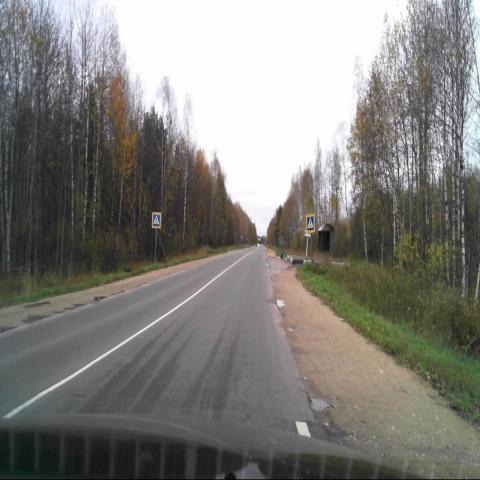5_19_1: (306, 214, 314, 234), (152, 212, 161, 229)
